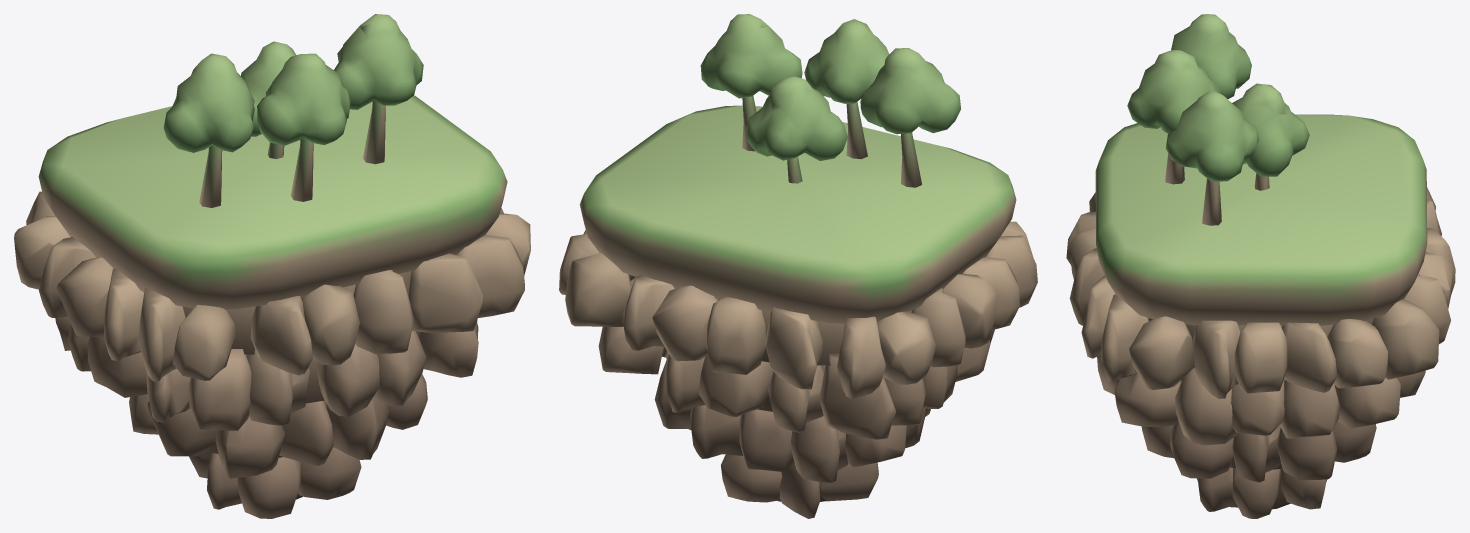
The model's file is far_waterfall.glb.
3 views of the same model, side by side, from view 1: azimuth 30°, elevation 25°; view 2: azimuth 150°, elevation 25°; view 3: azimuth 270°, elevation 25° (orthographic). The views are drawn at different scales.
Visible parts, largest first — view 1: far_waterfall; view 2: far_waterfall; view 3: far_waterfall.
Boxes of the visible parts, bbox=[...] form: far_waterfall: bbox=[14, 14, 530, 518]; far_waterfall: bbox=[559, 14, 1037, 518]; far_waterfall: bbox=[1066, 14, 1455, 518].
Bounding box in the file's own units: 3.64 × 3.94 × 3.16.
